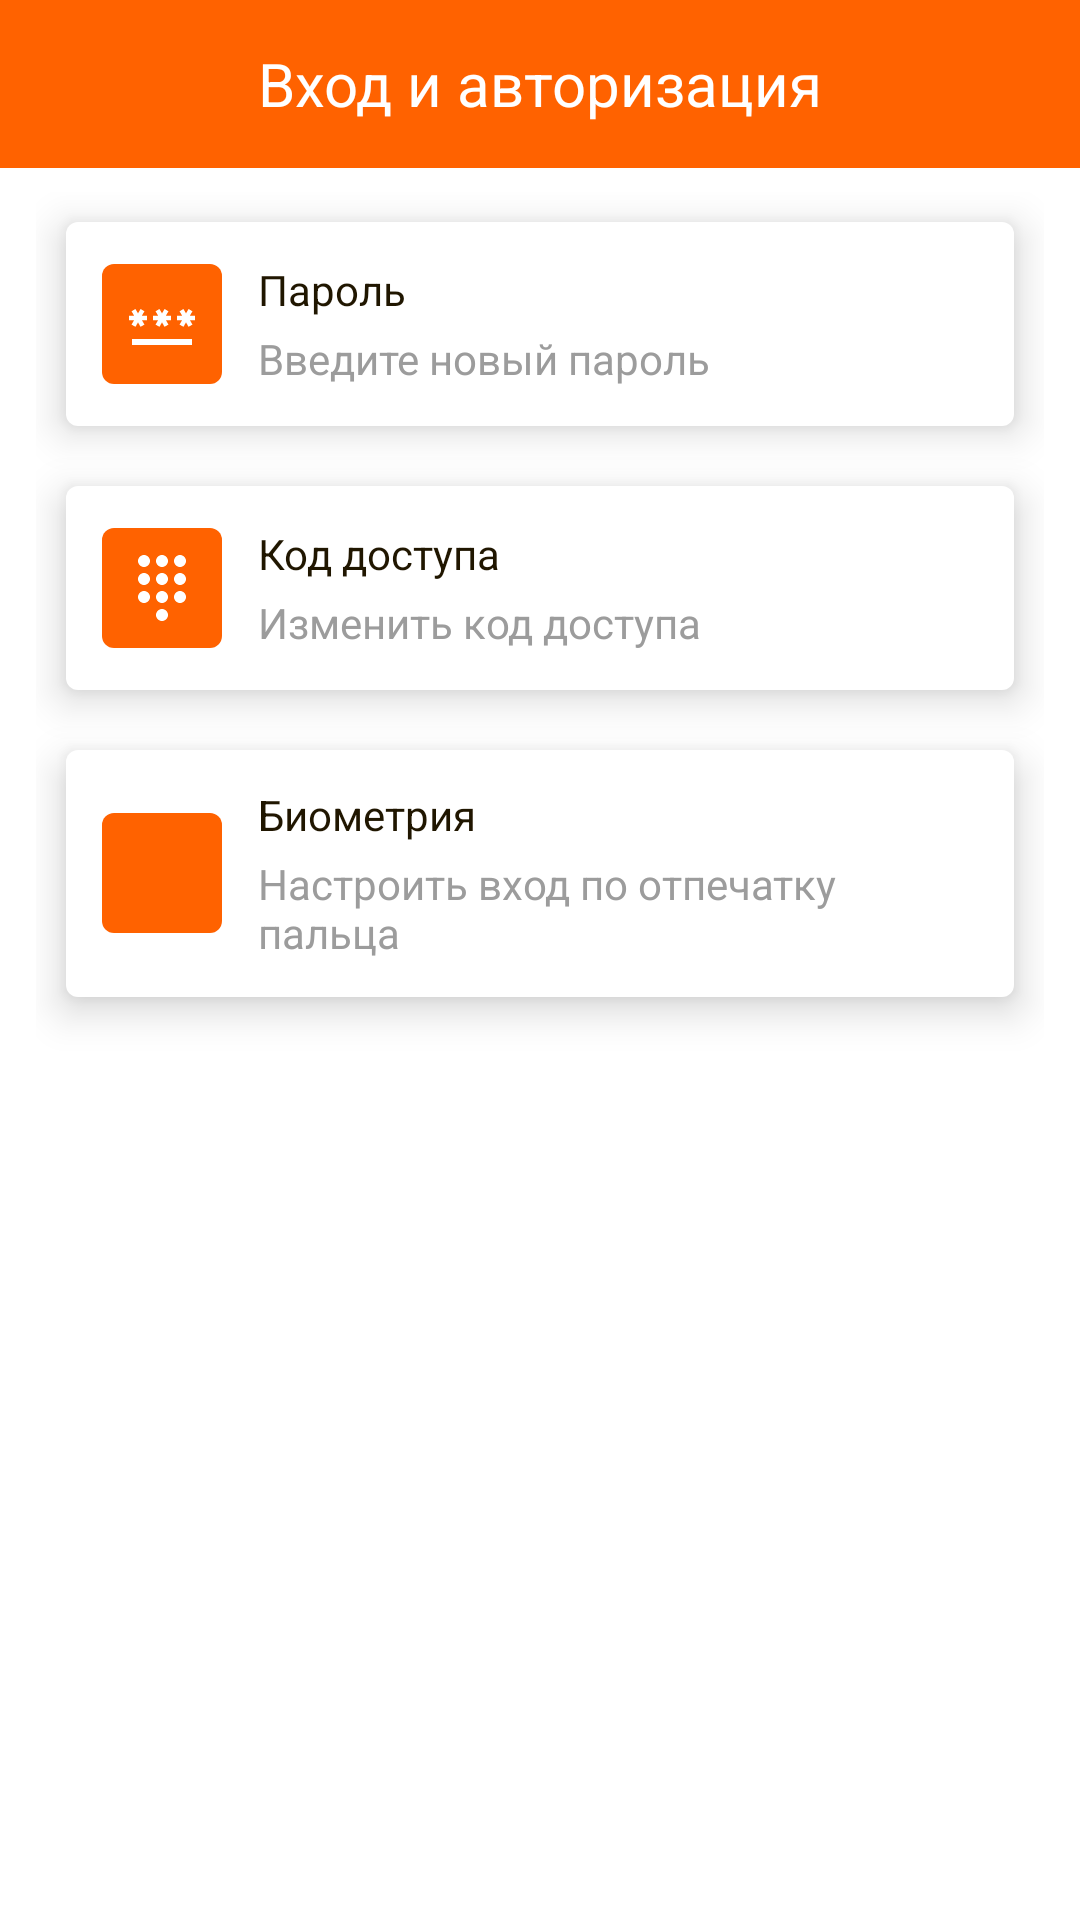

Screen size 1080 x 1920. Icon name, then its center in pixels as point (x, y):
settings password: point (162, 324)
settings pin code: point (162, 588)
